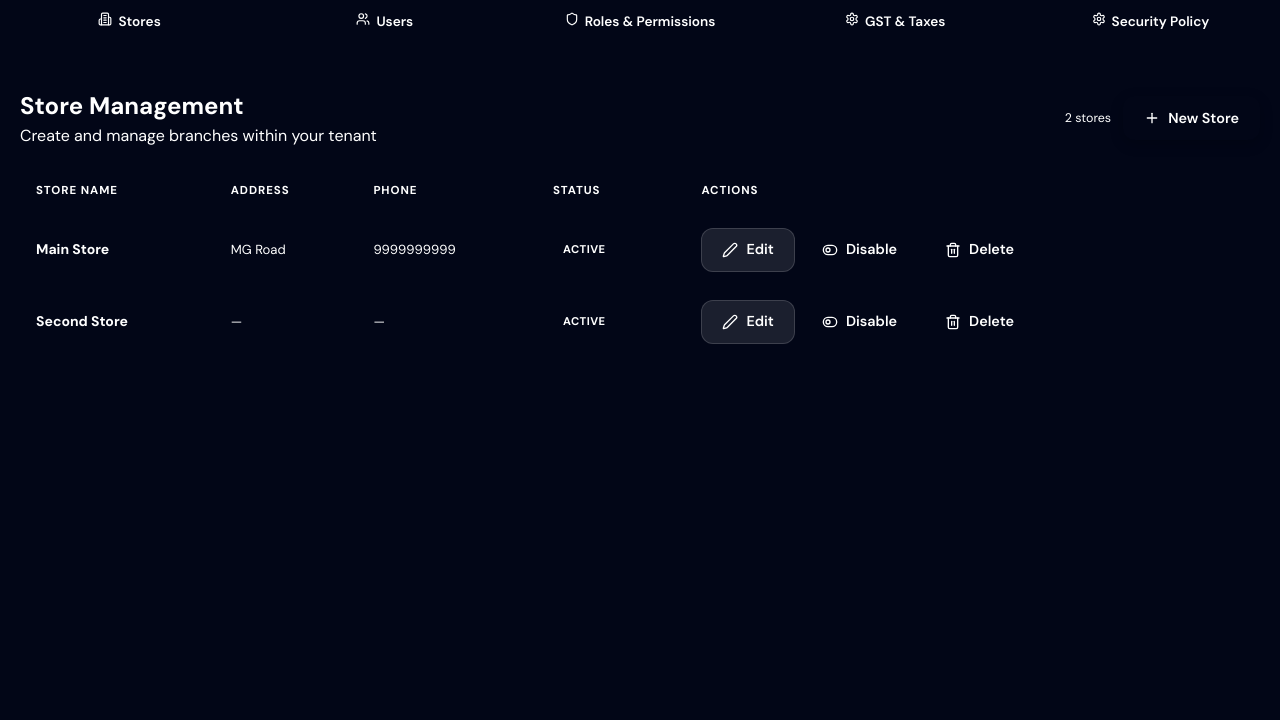
Test case: AdminPage store management › deletes a store after confirmation
Later steps or results of the test are not shown.
Click the button "Delete" in the row of "Main Store". click: (980, 250)
box: [924,228,1035,272]
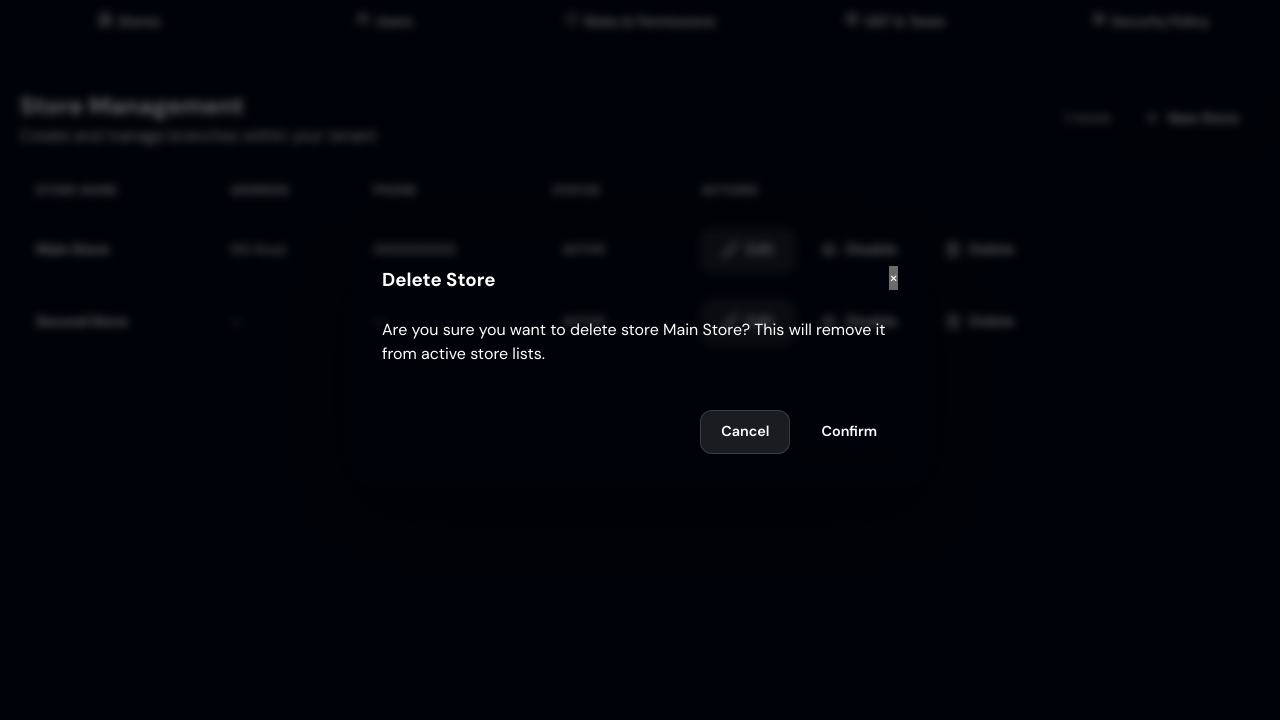
Expected: the button "Confirm" is shown, [800,410,898,454]
